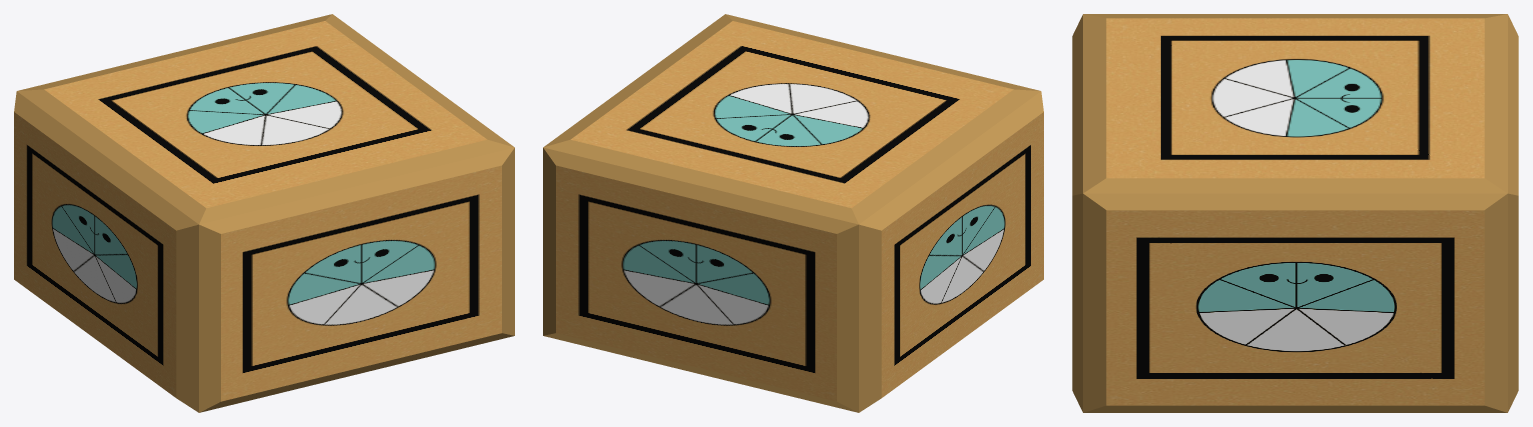
The picture shows the model from 3 angles, left to right: view 1: azimuth 30°, elevation 25°; view 2: azimuth 150°, elevation 25°; view 3: azimuth 270°, elevation 25°; orthographic projection. The views are drawn at different scales.
Visible parts, largest first — view 1: 4/7; view 2: 4/7; view 3: 4/7.
Boxes of the visible parts, box(x1,y1,x2,y2) form: 4/7: box(14, 14, 514, 412); 4/7: box(543, 14, 1043, 412); 4/7: box(1072, 14, 1518, 412).
Size of the model in its own units: 213 by 120 by 210.
Materials: 3 (2 with a texture image).
